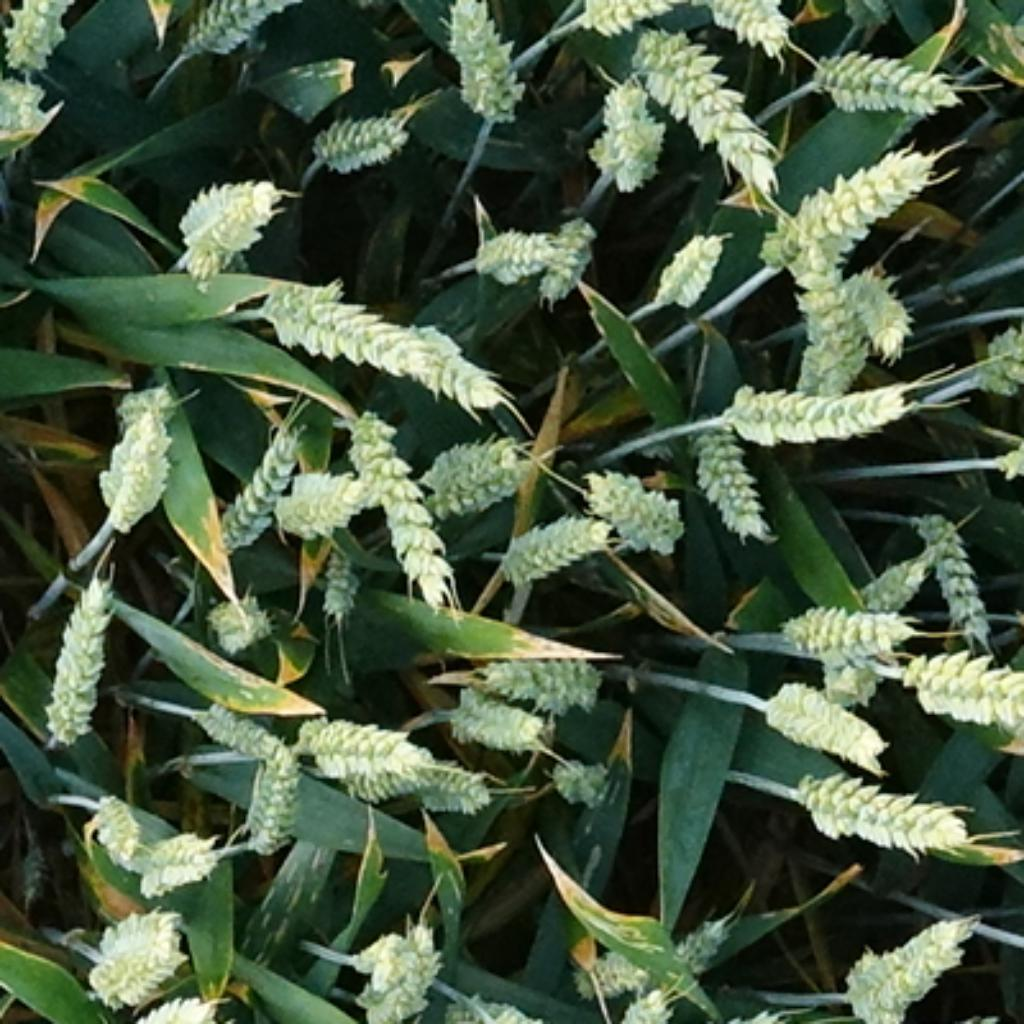0-0: (248, 261, 506, 394), (634, 12, 780, 184), (765, 135, 936, 263), (832, 898, 980, 1024), (816, 545, 929, 709), (788, 755, 975, 849), (353, 412, 450, 593), (768, 227, 867, 391), (35, 565, 122, 744), (719, 378, 924, 448), (803, 33, 965, 115), (294, 701, 442, 788), (166, 158, 284, 266), (343, 906, 448, 1021), (212, 417, 304, 545), (74, 901, 184, 1006), (762, 680, 893, 768), (901, 634, 1024, 727), (97, 404, 186, 529), (419, 424, 535, 517), (911, 499, 993, 627), (770, 588, 913, 660), (463, 209, 599, 284), (437, 2, 527, 115), (652, 212, 744, 320), (683, 414, 768, 529), (583, 455, 686, 547), (586, 74, 670, 184), (473, 637, 606, 706), (842, 271, 934, 368), (499, 499, 609, 578), (302, 97, 412, 168), (166, 2, 304, 56), (276, 450, 366, 532), (240, 739, 304, 844), (440, 983, 601, 1024), (48, 988, 225, 1024), (957, 312, 1024, 407), (189, 693, 284, 757), (130, 819, 222, 885), (445, 680, 540, 742), (396, 747, 488, 811), (535, 207, 599, 296), (199, 581, 279, 647), (576, 936, 665, 995), (0, 2, 76, 66), (691, 2, 796, 48), (84, 785, 148, 860), (547, 744, 624, 806), (668, 903, 737, 967), (314, 535, 363, 614), (112, 384, 181, 437), (596, 980, 675, 1024), (0, 61, 46, 133), (568, 2, 675, 30)
